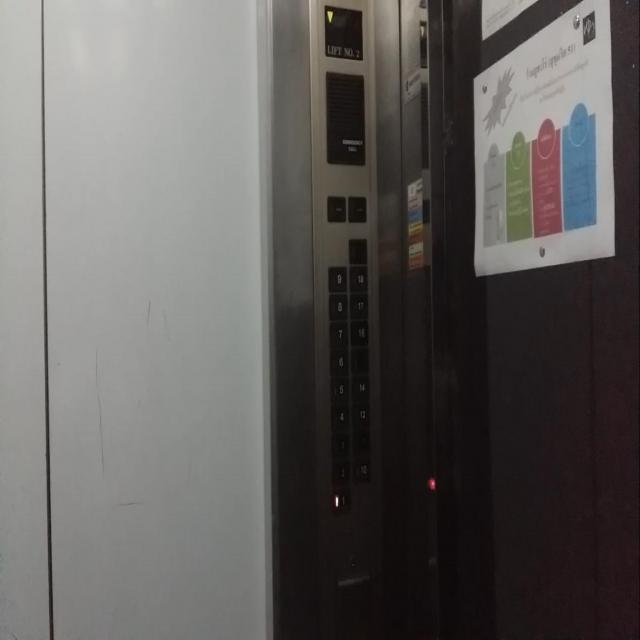1: (330, 483, 352, 517)
10: (350, 454, 372, 484)
12: (350, 401, 370, 428)
14: (350, 372, 371, 402)
16: (349, 318, 369, 348)
17: (348, 289, 369, 320)
18: (348, 262, 369, 294)
2: (330, 453, 351, 487)
3: (329, 428, 351, 455)
4: (328, 401, 351, 432)
5: (328, 374, 350, 403)
6: (327, 346, 350, 376)
7: (328, 318, 349, 348)
8: (327, 291, 348, 320)
9: (327, 264, 348, 294)
blur: (326, 193, 346, 224), (347, 194, 368, 223), (350, 427, 370, 455)
empty: (349, 344, 370, 377), (347, 237, 368, 265)
led: (322, 2, 363, 62)
